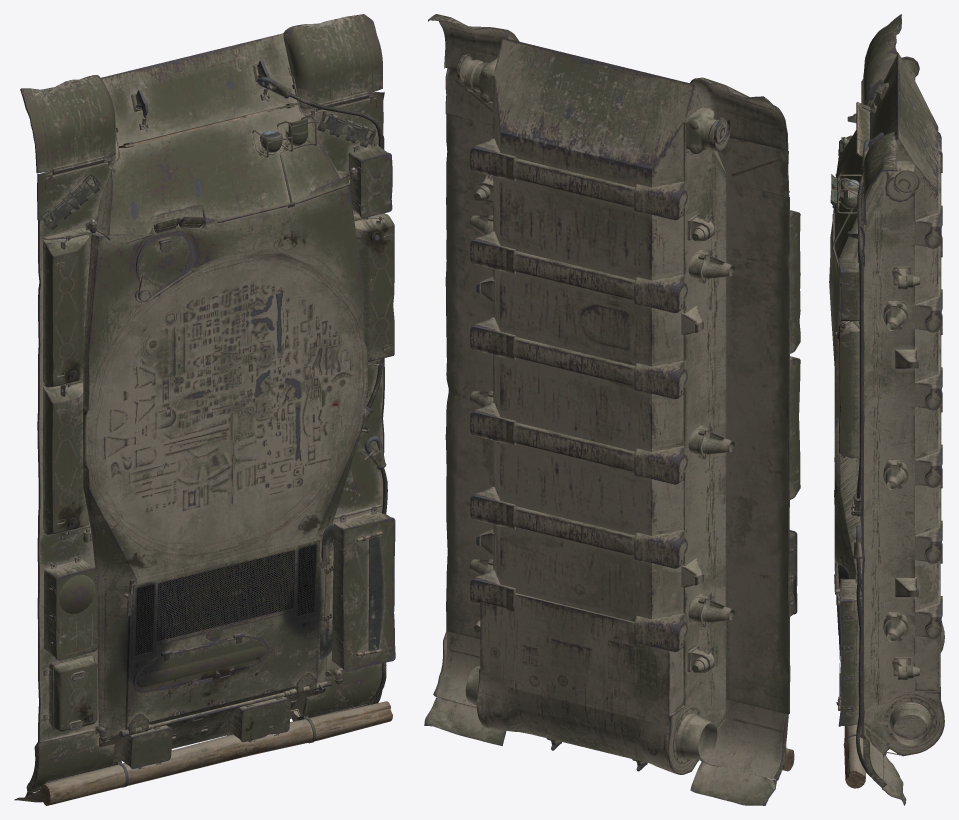
File: Hull.glb
The picture shows the model from 3 angles, left to right: view 1: azimuth 30°, elevation 25°; view 2: azimuth 150°, elevation 25°; view 3: azimuth 270°, elevation 25°; orthographic projection. The views are drawn at different scales.
Parts seen in each view (by area): view 1: set_0_group_0; view 2: set_0_group_0; view 3: set_0_group_0.
Boxes of the visible parts, x1,y1,x2,y2 form: set_0_group_0: [14, 14, 395, 805]; set_0_group_0: [424, 14, 800, 805]; set_0_group_0: [829, 14, 944, 805].
Bounding box in the file's own units: 3.32 × 6.59 × 1.07.
1 material, 1 textured.
